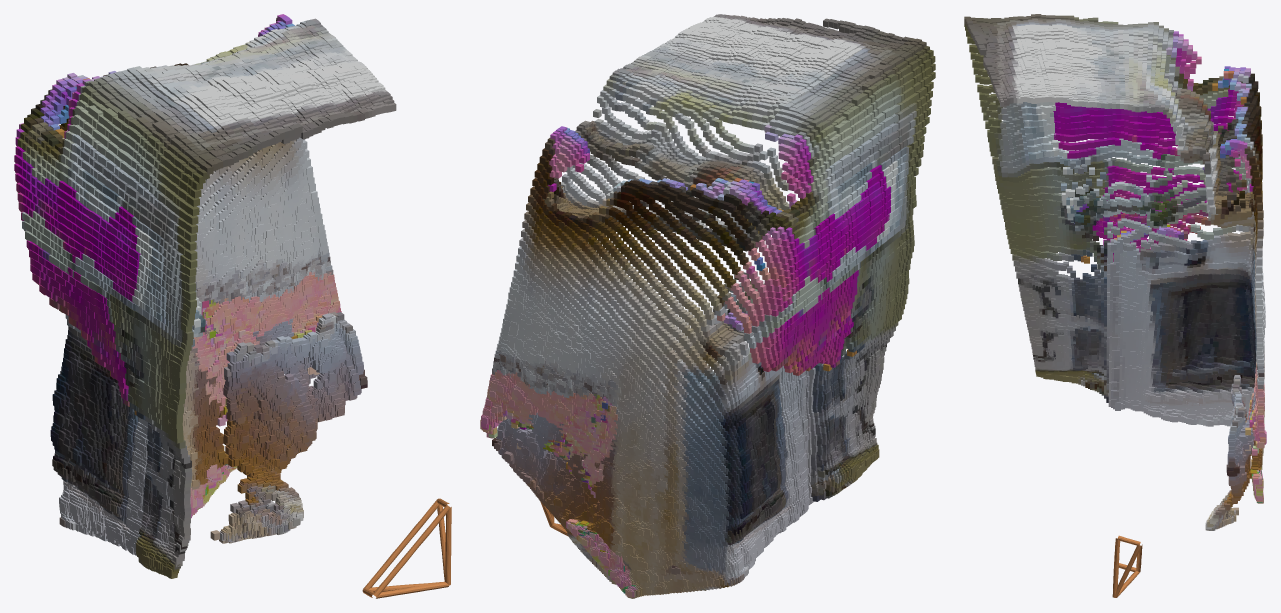
Rendered from pred_1-compressed.glb.
3 renders of one model, left to right at view 1: azimuth 30°, elevation 25°; view 2: azimuth 150°, elevation 25°; view 3: azimuth 270°, elevation 25°, orthographic. The views are drawn at different scales.
Bounding box in the file's own units: 2.9 × 4.42 × 2.61.
